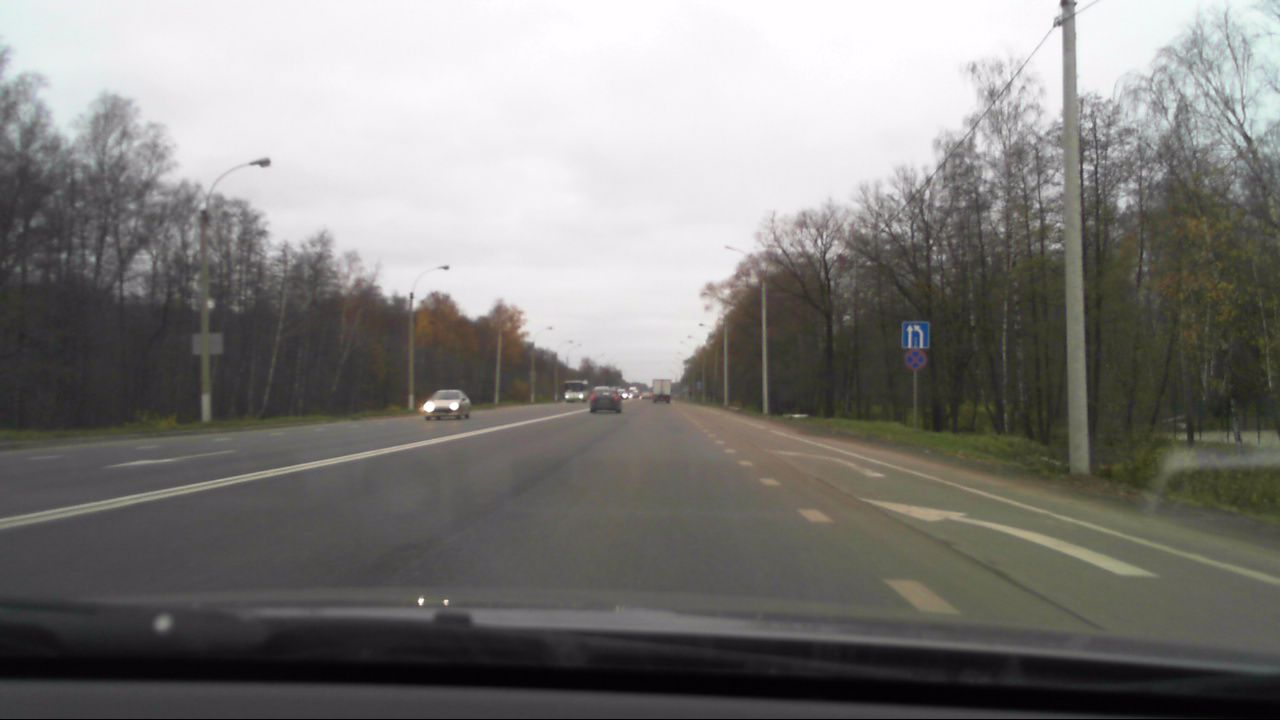No Parking: (903, 349, 925, 369)
